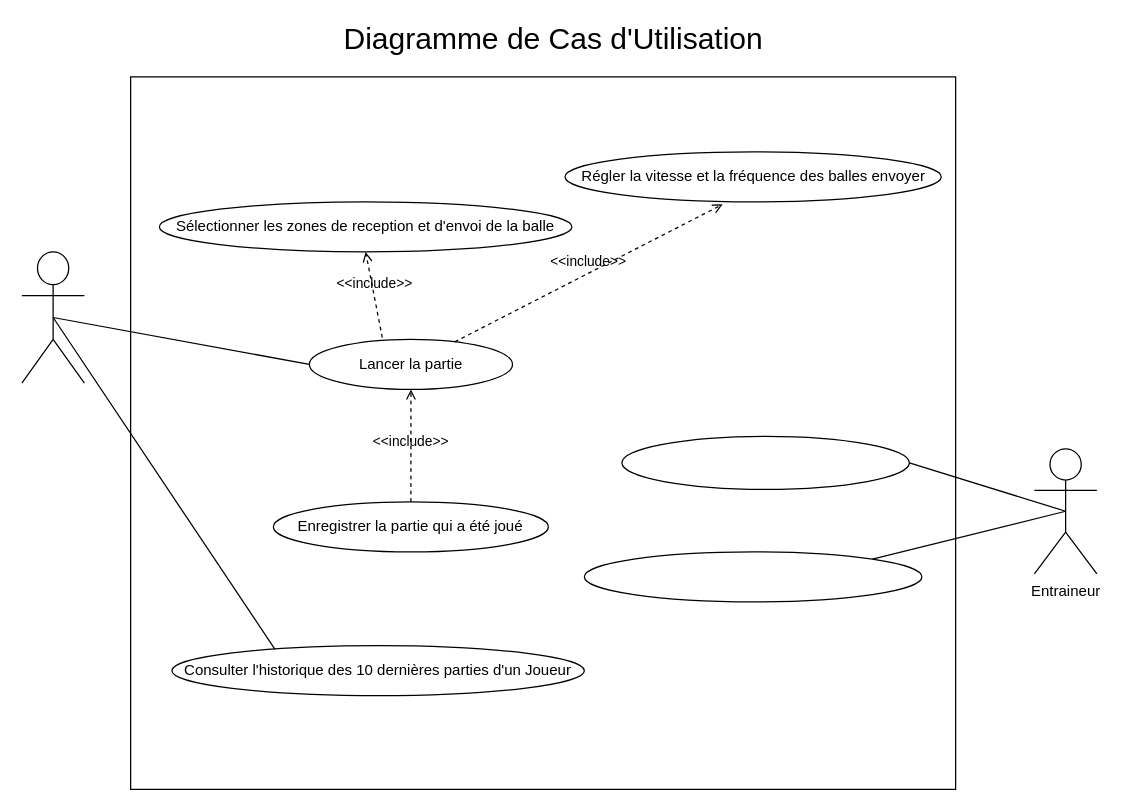
This 1121x811 diagram has some shape labels left out. Each missing label, with the centre of its shape:
"Consulter l'historique complet des Joueurs" belongs at (752,576).
"Créer et Gérer des comptes Joueurs" belongs at (765,462).
"Joueur" belongs at (52,317).
